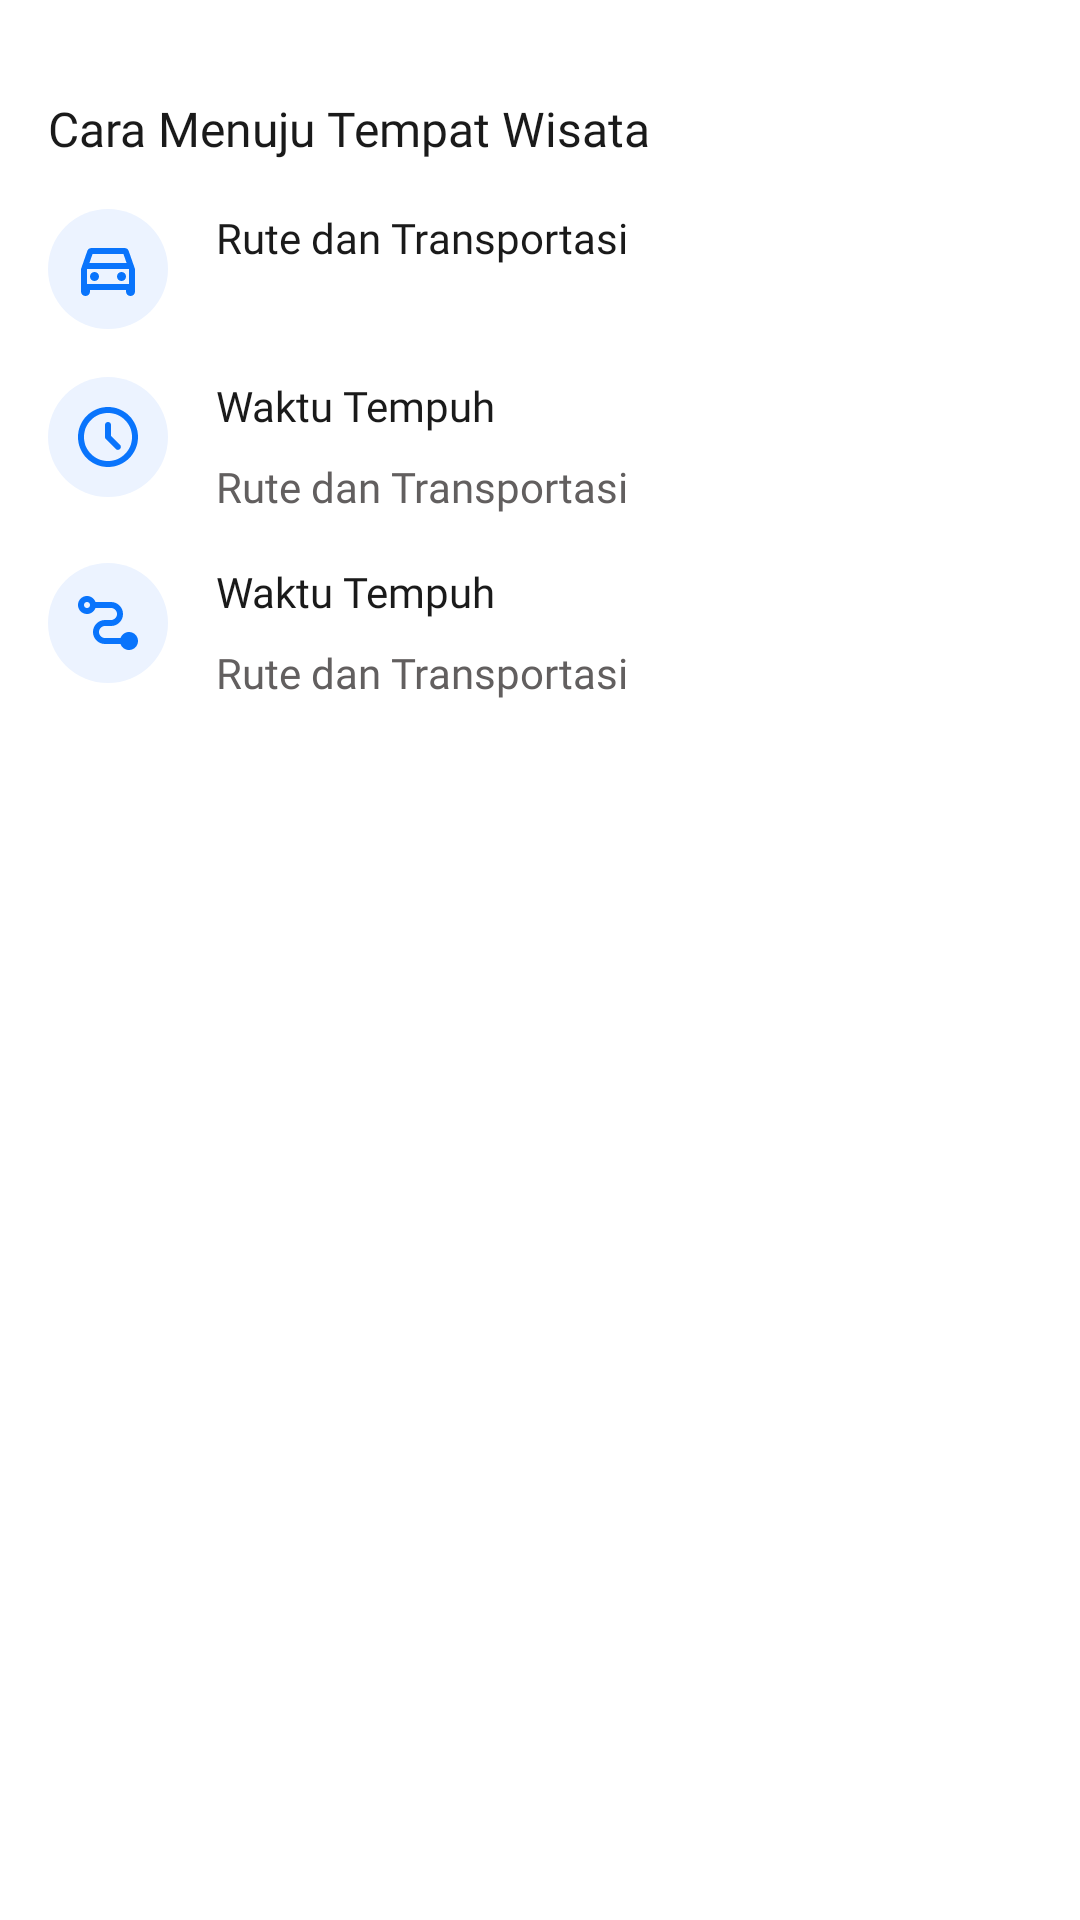

Screen size 1080w x 1920h. Icon name, then its box in pixels as [left=x1, top=y1, right=x2, bottom=y2]:
kondisi jalan: [left=48, top=563, right=168, bottom=683]
